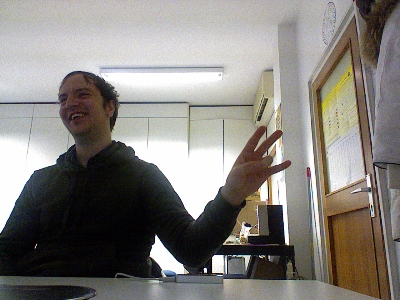观音: (225, 125, 292, 199)
